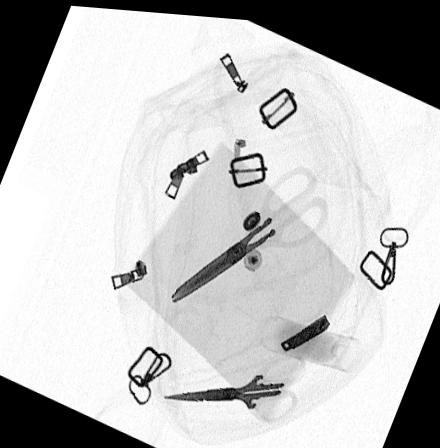Scissors: (169, 158, 328, 301), (161, 347, 307, 418)
